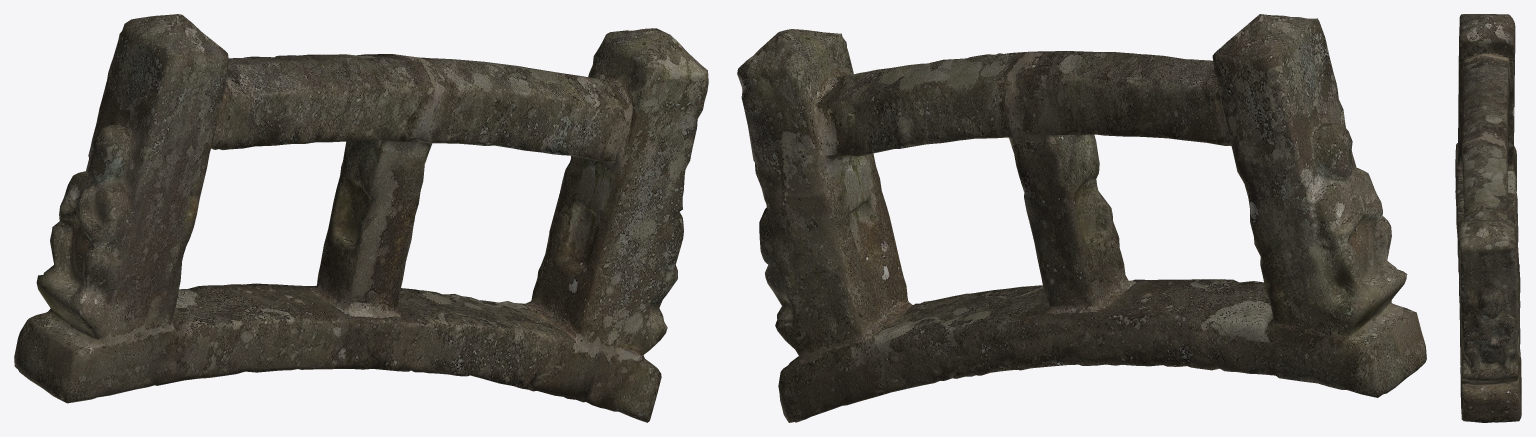
File: railing.glb
3 renders of one model, left to right at view 1: azimuth 30°, elevation 25°; view 2: azimuth 150°, elevation 25°; view 3: azimuth 270°, elevation 25°, orthographic. The views are drawn at different scales.
Parts seen in each view (by area): view 1: railing_S_Japanese_Bridge_Railing_ubnhbetfa_lod10_LOD0; view 2: railing_S_Japanese_Bridge_Railing_ubnhbetfa_lod10_LOD0; view 3: railing_S_Japanese_Bridge_Railing_ubnhbetfa_lod10_LOD0.
Boxes of the visible parts, left/top/right/bottom form: railing_S_Japanese_Bridge_Railing_ubnhbetfa_lod10_LOD0: left=14, top=14, right=708, bottom=422; railing_S_Japanese_Bridge_Railing_ubnhbetfa_lod10_LOD0: left=737, top=14, right=1426, bottom=422; railing_S_Japanese_Bridge_Railing_ubnhbetfa_lod10_LOD0: left=1455, top=14, right=1521, bottom=422.
Size of the model in its own units: 1.38 by 1.02 by 0.2177.
1 material, 1 textured.
